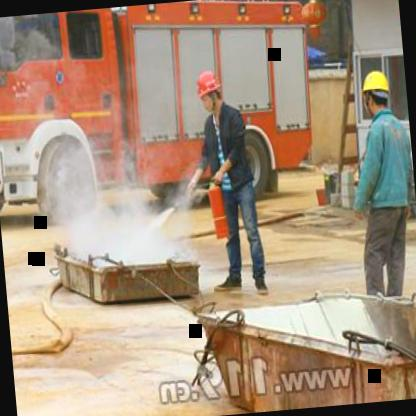helmet: (358, 66, 394, 119), (194, 66, 224, 118)
